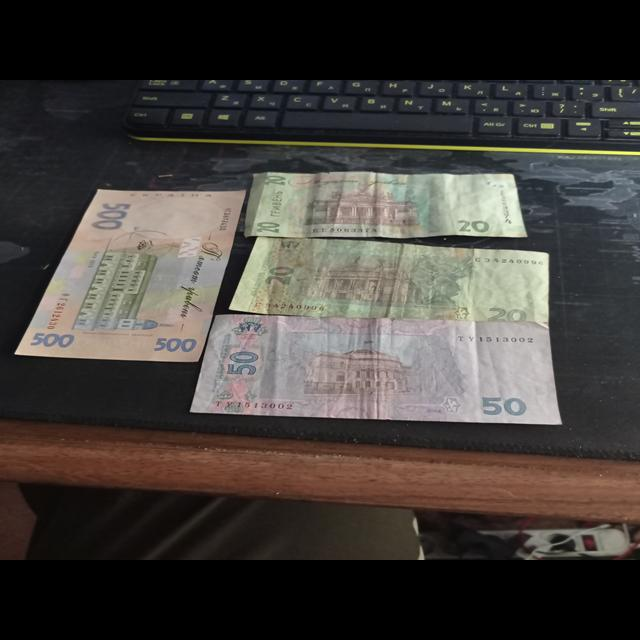20uah: (228, 237, 551, 322), (243, 174, 530, 238)
500uah: (15, 189, 248, 361)
50uah: (191, 315, 563, 424)
